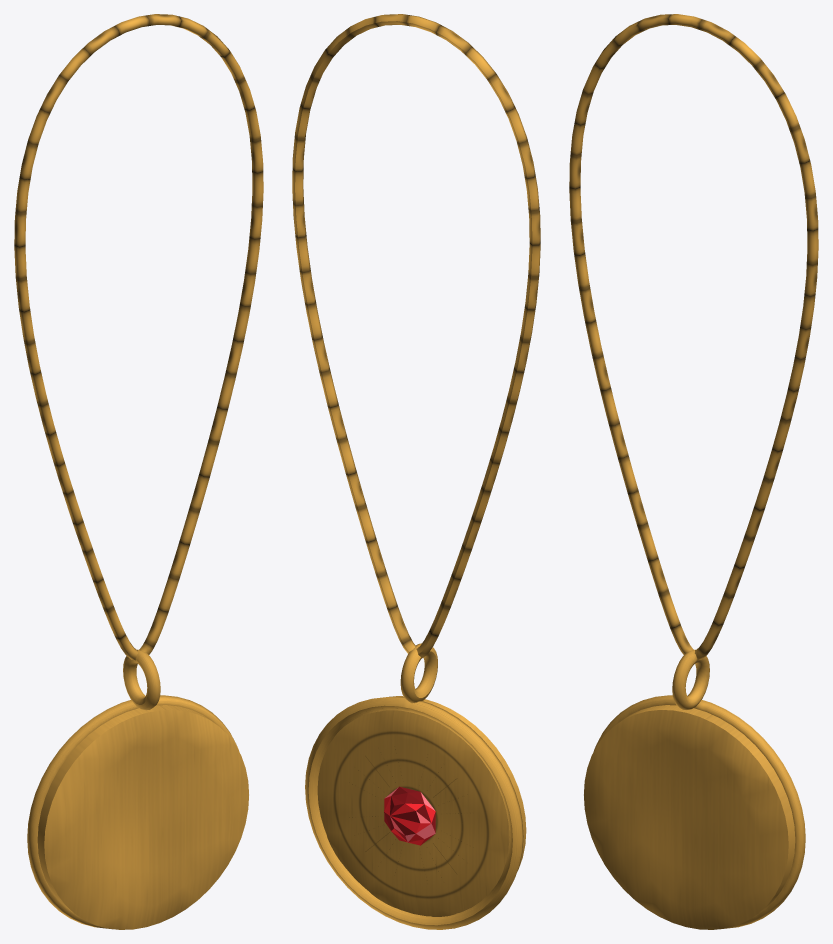
The model's file is Amulet.glb.
The picture shows the model from 3 angles, left to right: view 1: azimuth 30°, elevation 25°; view 2: azimuth 150°, elevation 25°; view 3: azimuth 330°, elevation 25°; orthographic projection.
Parts seen in each view (by area): view 1: Amulet; view 2: Amulet; view 3: Amulet.
Part boxes in pixels (left/top/right/bottom): Amulet: left=14, top=14, right=263, bottom=929; Amulet: left=292, top=14, right=540, bottom=929; Amulet: left=569, top=14, right=818, bottom=929.
Size of the model in its own units: 0.5321 by 1.87 by 0.116.
1 material, 1 textured.
